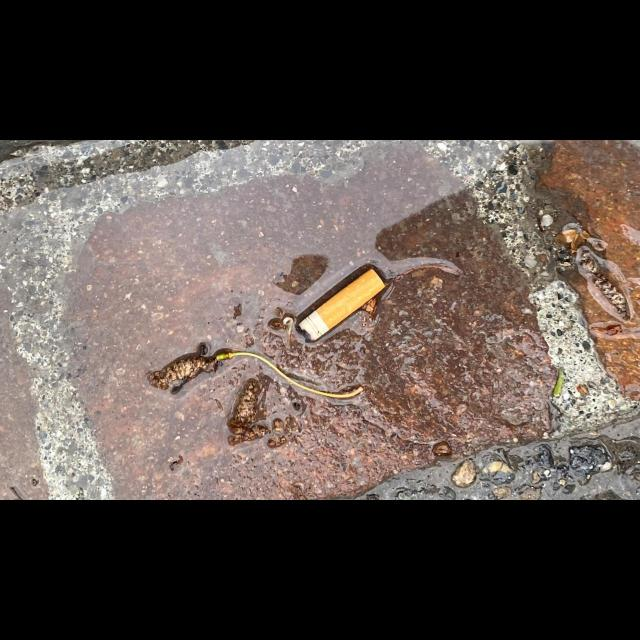cigarette: (295, 267, 386, 343)
